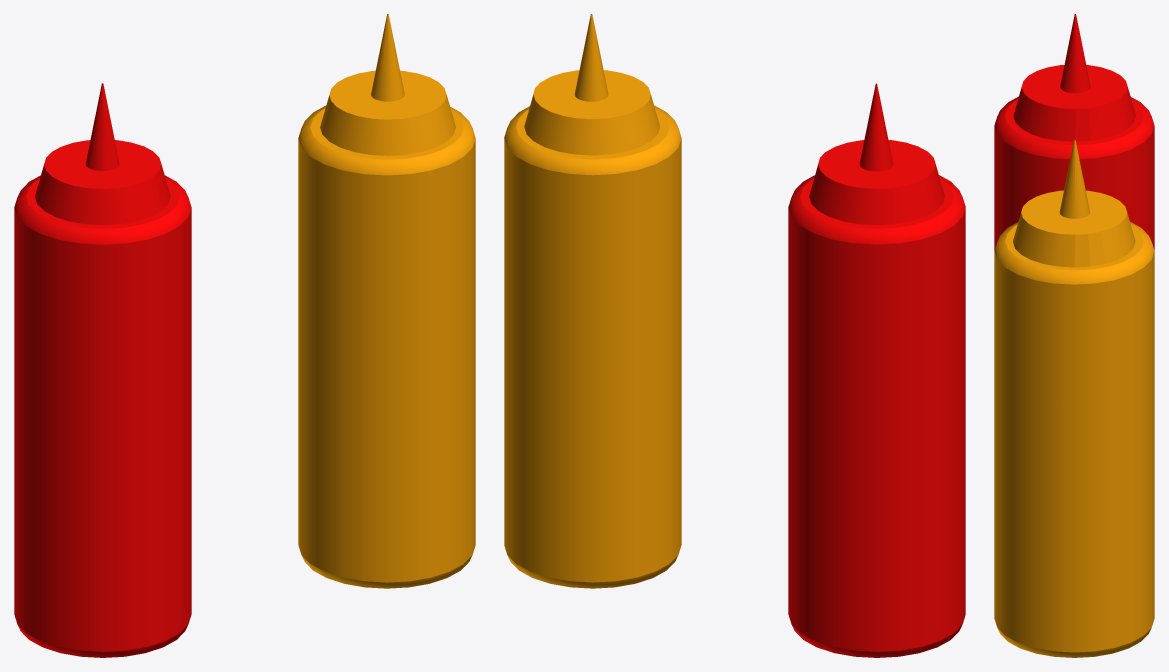
Rendered from Ketchup_Mustard.dae.
The picture shows the model from 3 angles, left to right: view 1: azimuth 30°, elevation 25°; view 2: azimuth 150°, elevation 25°; view 3: azimuth 270°, elevation 25°; orthographic projection. The views are drawn at different scales.
Parts seen in each view (by area): view 1: SketchUp (×2), group_1, group_3, group_0, group_2; view 2: SketchUp (×2), group_1, group_3, group_2, group_0; view 3: SketchUp (×2), group_1, group_3, group_2, group_0.
Part boxes in pixels (<box>): SketchUp (×2): <box>14,105,475,657</box>; group_1: <box>320,70,455,155</box>; group_3: <box>35,140,170,225</box>; group_0: <box>371,14,404,101</box>; group_2: <box>85,83,119,170</box>; SketchUp (×2): <box>504,105,965,657</box>; group_1: <box>524,70,659,155</box>; group_3: <box>809,140,944,225</box>; group_2: <box>859,83,893,171</box>; group_0: <box>574,14,608,101</box>; SketchUp (×2): <box>994,96,1154,657</box>; group_1: <box>1013,190,1135,267</box>; group_3: <box>1013,65,1135,141</box>; group_2: <box>1060,14,1090,93</box>; group_0: <box>1059,139,1090,218</box>.
Size of the model in its own units: 6.73 by 2.36 by 7.95.
